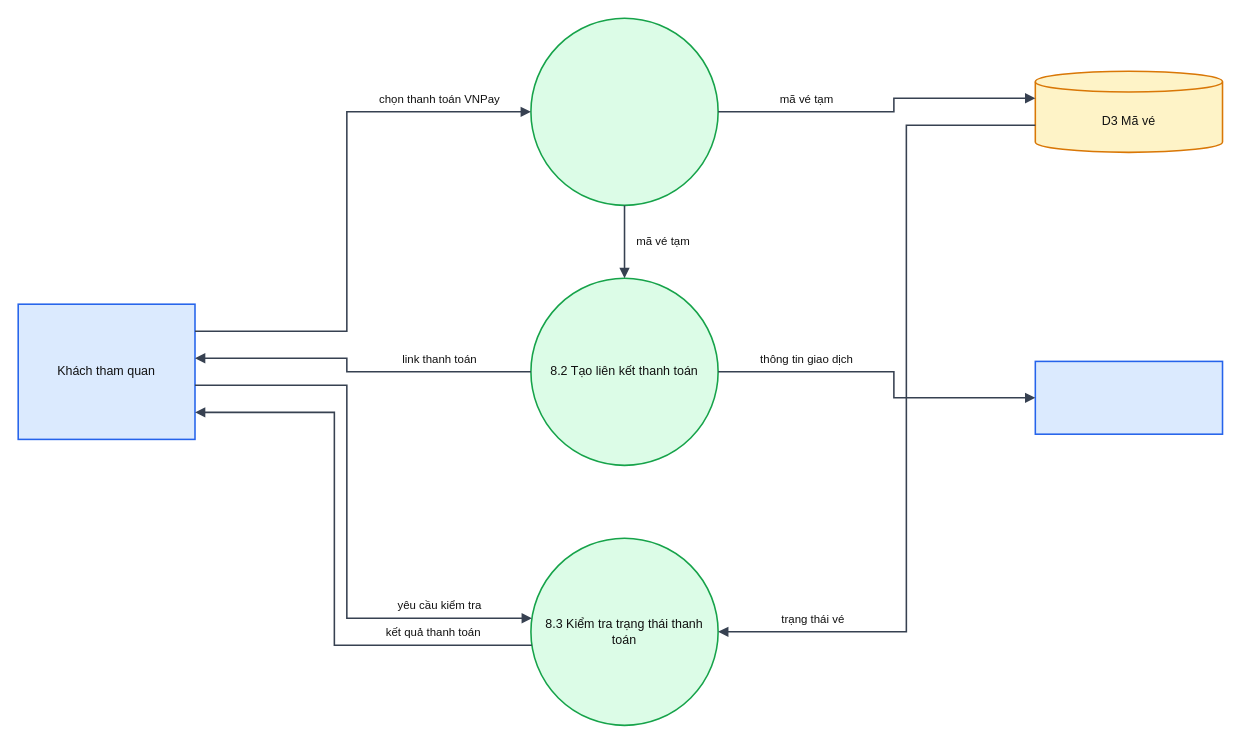
Image size: 1242x745. Some labels were removed from this diagram. The shapes that lost their labels are listed below. From the top down, each one's box as (x1, y1, x2, y2) in pixels, then its label:
(530, 17, 718, 206): 8.1 Tạo mã vé tạm
(1034, 360, 1223, 435): VNPay
